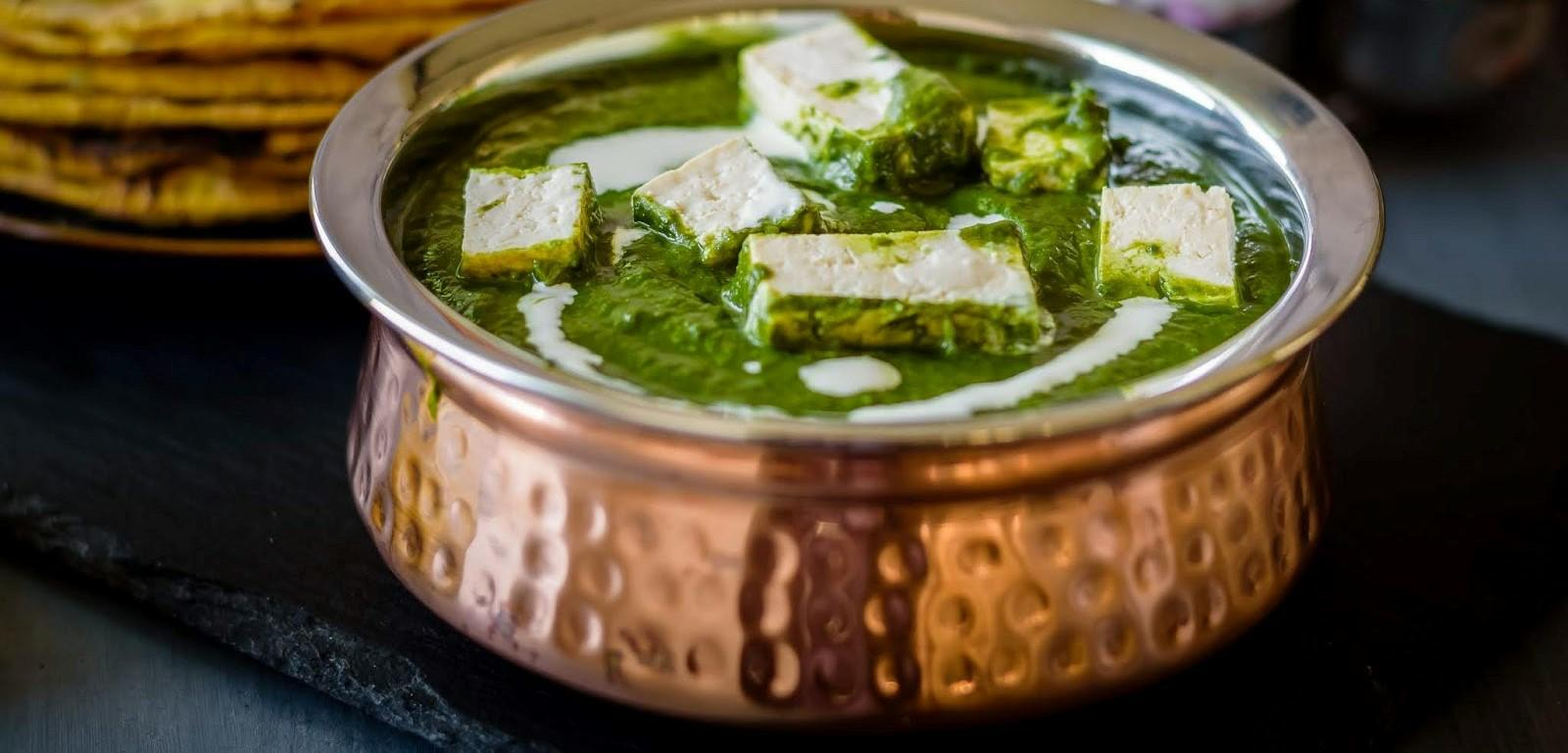PalakPaneer: (403, 14, 1292, 400)
